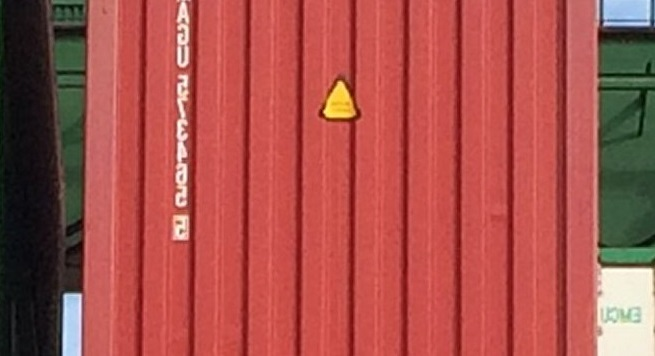container_no_door: (83, 1, 597, 355)
